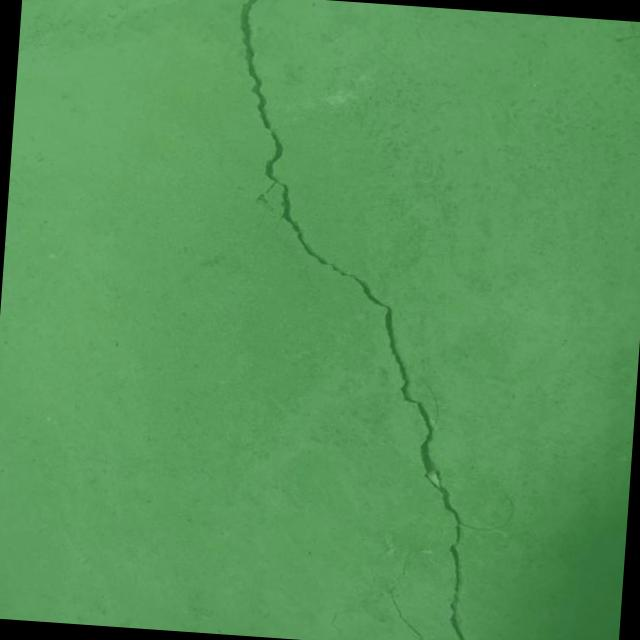crack: (196, 0, 511, 640), (384, 551, 439, 640), (326, 551, 381, 640)
